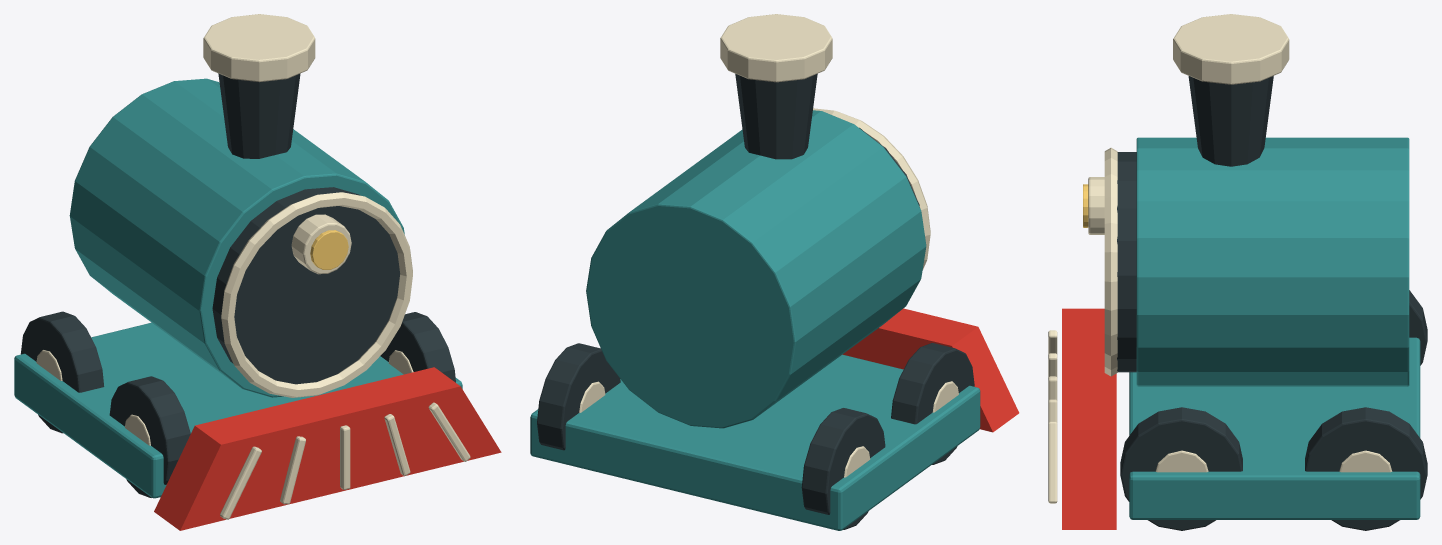
Rendered from S091_train_engine_front.glb.
3 views of the same model, side by side, from view 1: azimuth 30°, elevation 25°; view 2: azimuth 150°, elevation 25°; view 3: azimuth 270°, elevation 25° (orthographic). The views are drawn at different scales.
Visible parts, largest first — view 1: engine_boiler, cowcatcher, engine_face, engine_underframe, engine_face_rim, stack_rim, smokestack, train_wheel_tire, train_wheel_tire.001, train_wheel_tire.002, engine_headlight, engine_light (+5 smaller); view 2: engine_boiler, engine_underframe, cowcatcher, stack_rim, smokestack, train_wheel_tire.001, train_wheel_tire.003, train_wheel_tire, engine_face_rim; view 3: engine_boiler, engine_underframe, cowcatcher, stack_rim, train_wheel_tire.002, train_wheel_tire.003, smokestack, engine_face, engine_face_rim, engine_headlight, train_wheel_hub.002, train_wheel_hub.003 (+2 smaller).
Boxes of the visible parts, bbox=[...] form: engine_boiler: bbox=[69, 78, 404, 397]; cowcatcher: bbox=[154, 367, 501, 530]; engine_face: bbox=[212, 187, 400, 384]; engine_underframe: bbox=[14, 322, 462, 498]; engine_face_rim: bbox=[221, 192, 412, 397]; stack_rim: bbox=[203, 14, 315, 82]; smokestack: bbox=[218, 73, 300, 158]; train_wheel_tire: bbox=[109, 376, 190, 497]; train_wheel_tire.001: bbox=[20, 311, 104, 433]; train_wheel_tire.002: bbox=[380, 312, 455, 382]; engine_headlight: bbox=[291, 214, 351, 274]; engine_light: bbox=[310, 230, 348, 269]; engine_boiler: bbox=[586, 110, 926, 428]; engine_underframe: bbox=[530, 354, 980, 530]; cowcatcher: bbox=[842, 308, 1019, 432]; stack_rim: bbox=[720, 14, 832, 82]; smokestack: bbox=[735, 74, 817, 159]; train_wheel_tire.001: bbox=[801, 408, 885, 529]; train_wheel_tire.003: bbox=[537, 343, 620, 450]; train_wheel_tire: bbox=[891, 343, 974, 464]; engine_face_rim: bbox=[813, 108, 930, 269]; engine_boiler: bbox=[1136, 137, 1409, 386]; engine_underframe: bbox=[1129, 337, 1420, 519]; cowcatcher: bbox=[1062, 308, 1116, 529]; stack_rim: bbox=[1173, 14, 1289, 84]; train_wheel_tire.002: bbox=[1120, 407, 1242, 530]; train_wheel_tire.003: bbox=[1305, 407, 1427, 530]; smokestack: bbox=[1188, 76, 1273, 166]; engine_face: bbox=[1117, 152, 1136, 372]; engine_face_rim: bbox=[1104, 147, 1117, 376]; engine_headlight: bbox=[1088, 177, 1104, 234]; train_wheel_hub.002: bbox=[1155, 450, 1208, 472]; train_wheel_hub.003: bbox=[1339, 450, 1392, 472].
Size of the model in its own units: 2.12 by 2.55 by 2.09.
